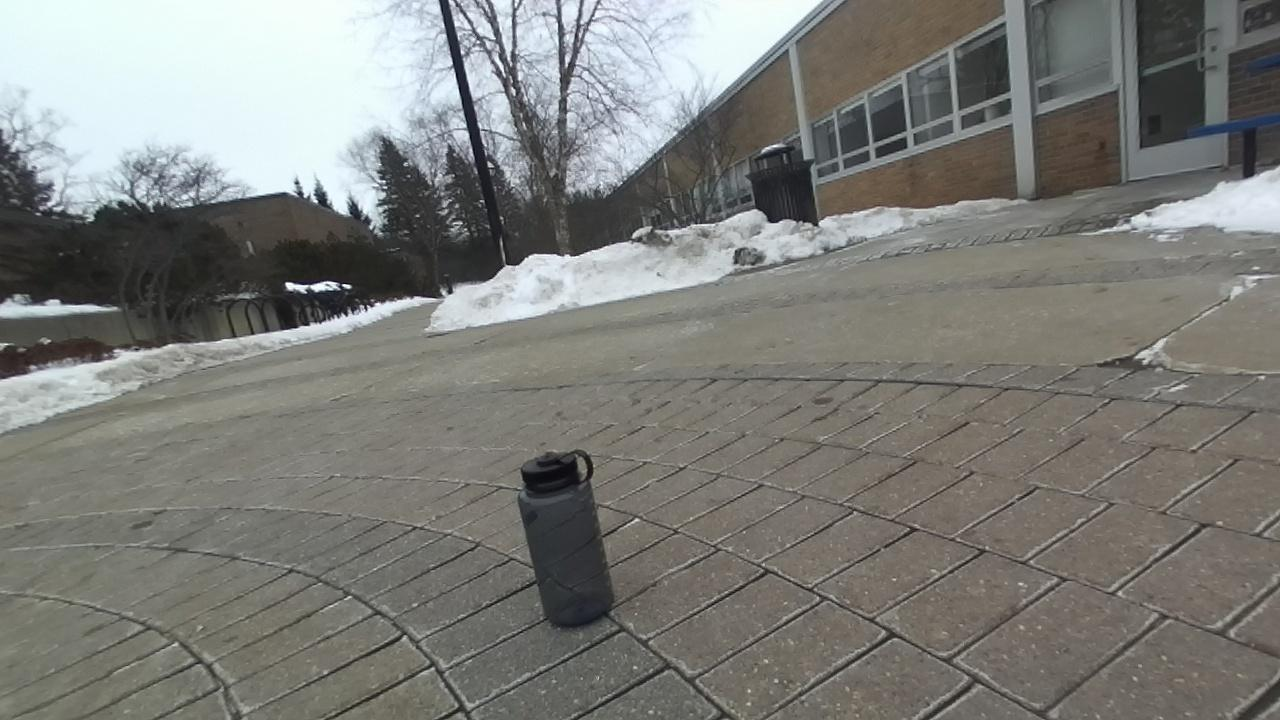bottle: (517, 450, 613, 625)
